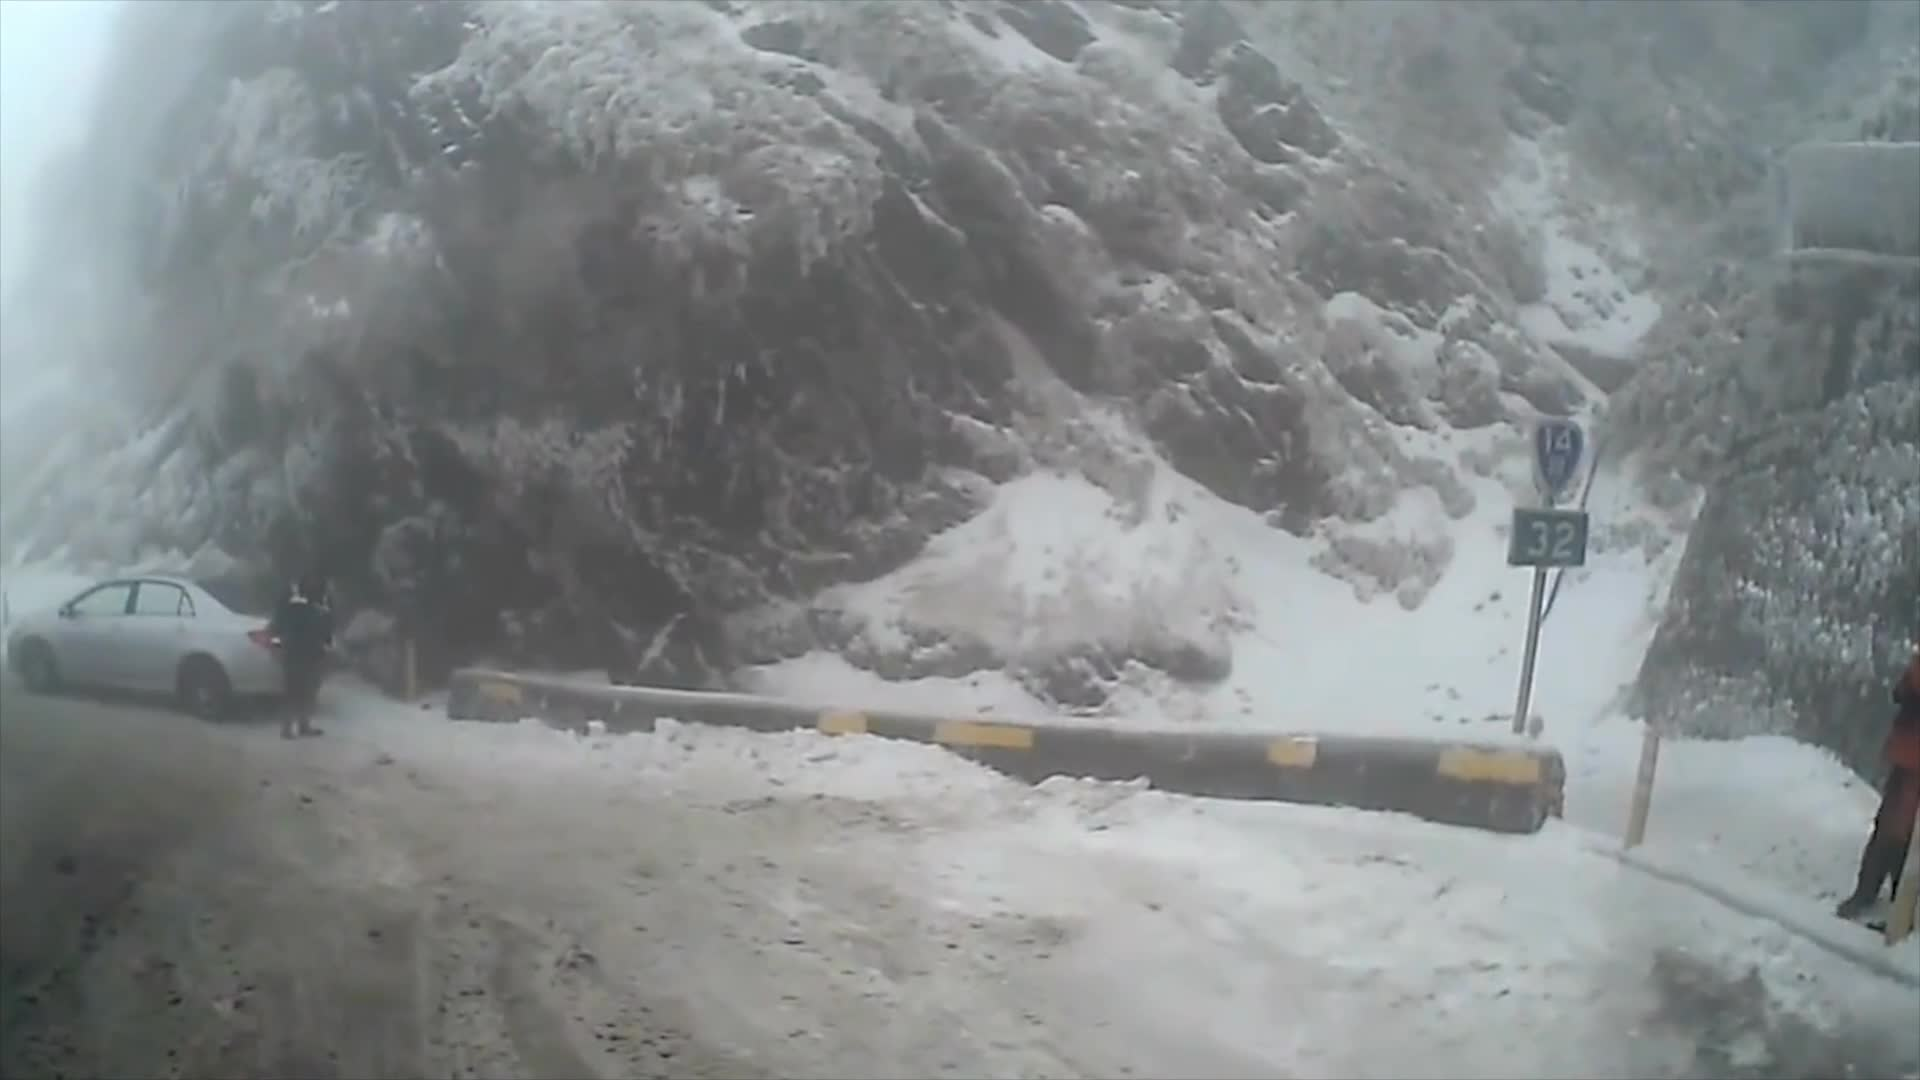pedestrian: (1842, 504, 1920, 944), (269, 557, 333, 738)
vehicle: (6, 570, 315, 721)
